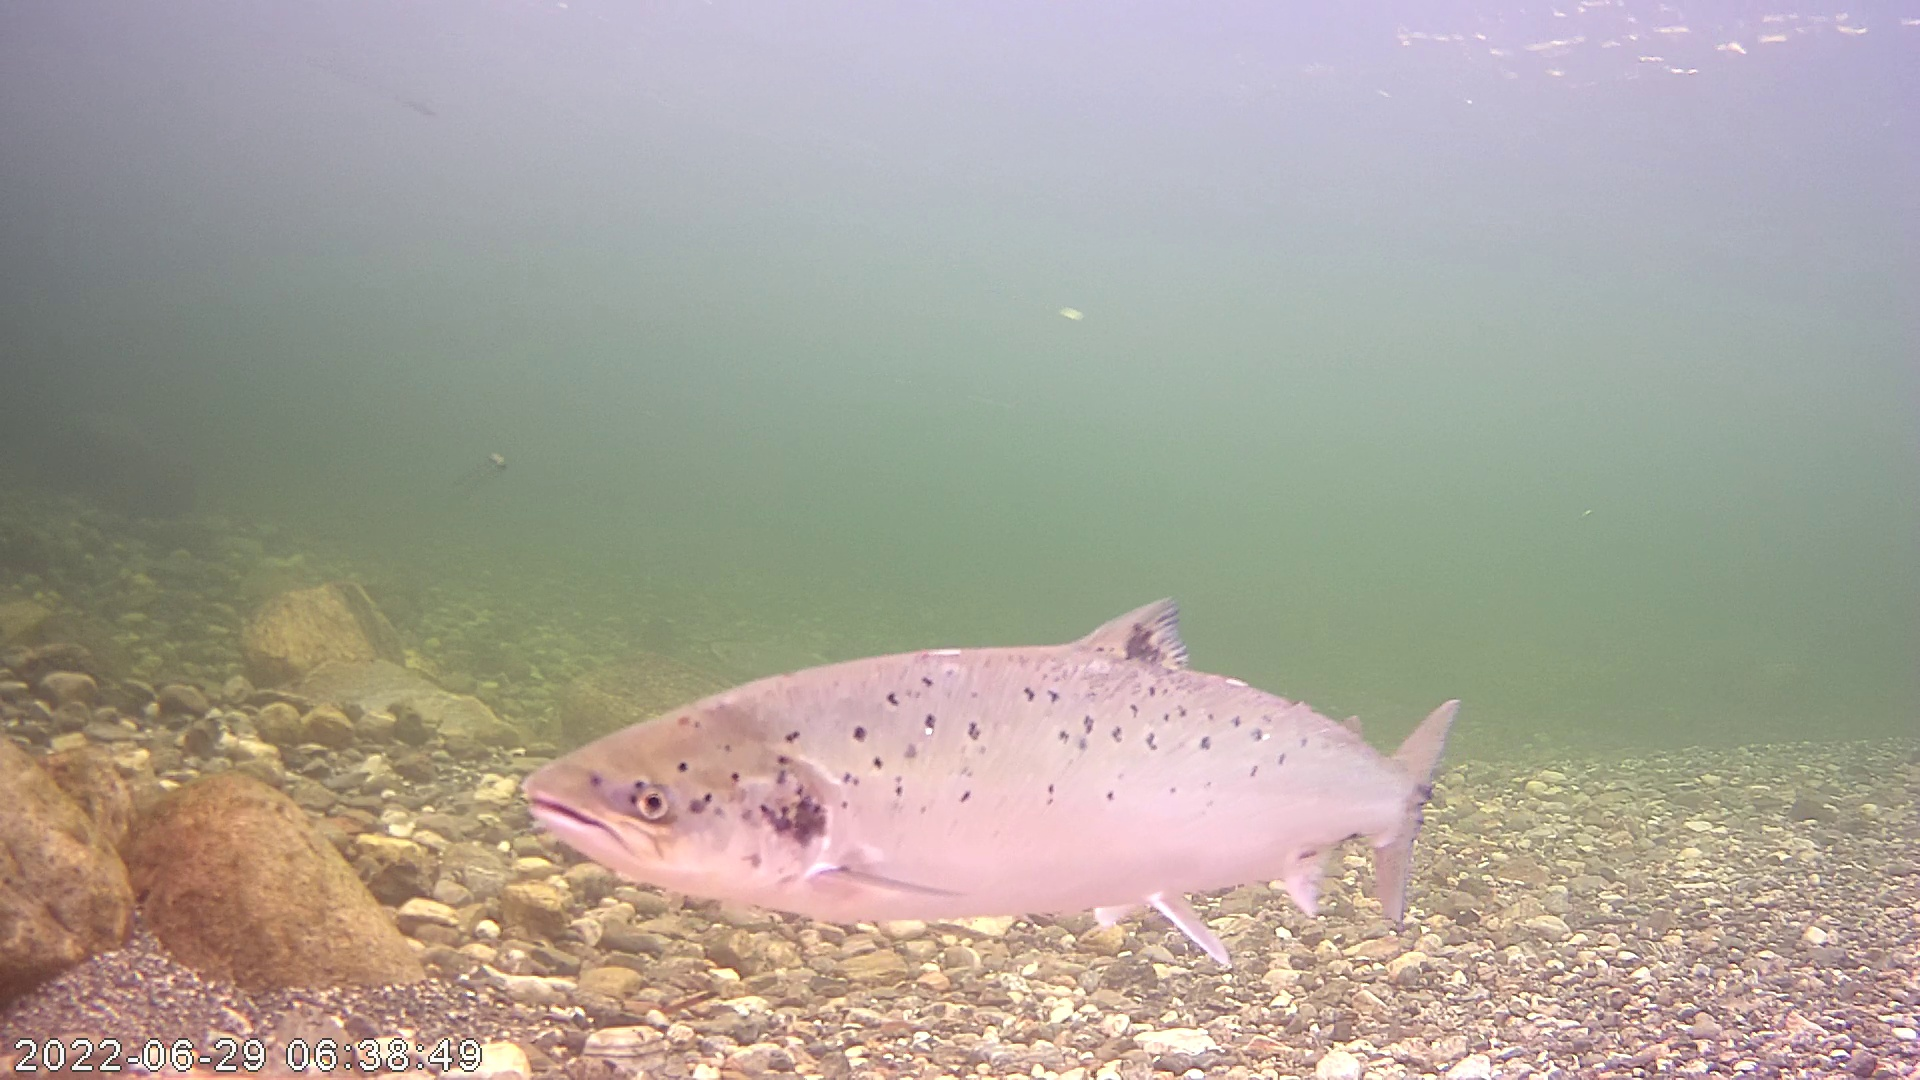salmon: (531, 520, 1468, 945)
